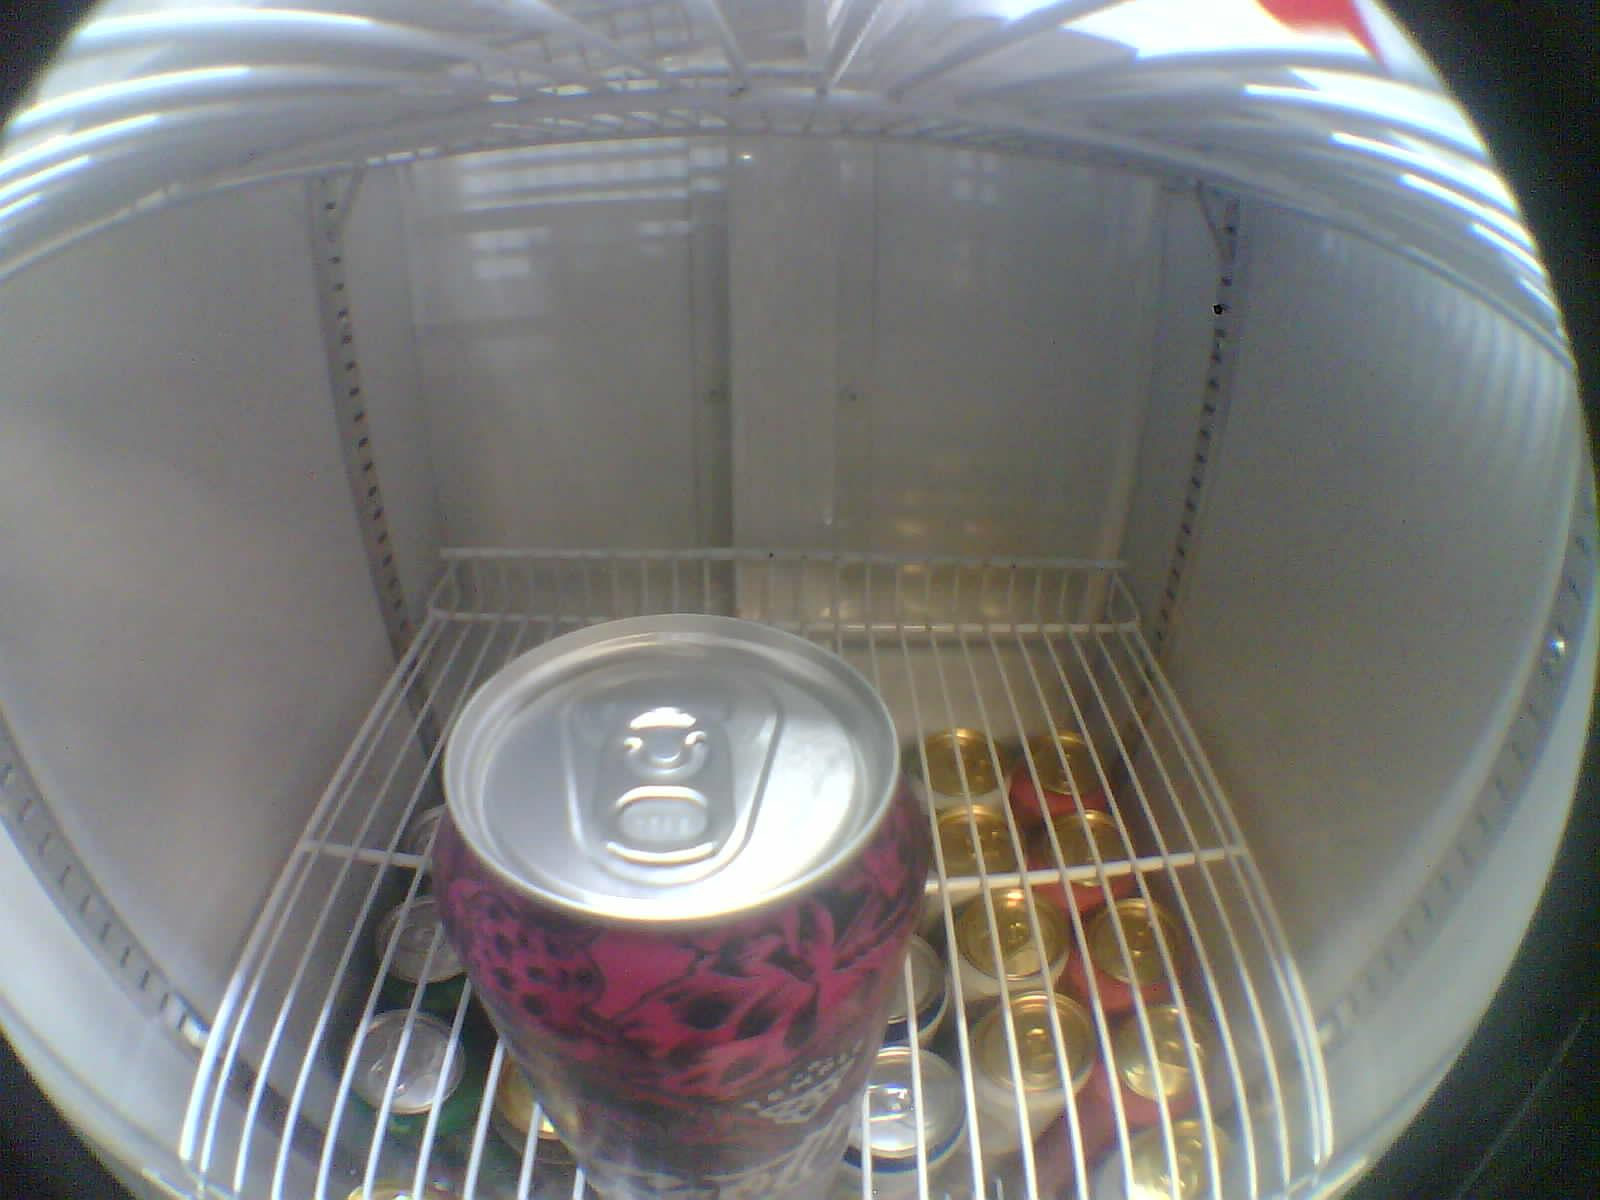metal: (433, 614, 930, 1196), (180, 576, 540, 1199)
